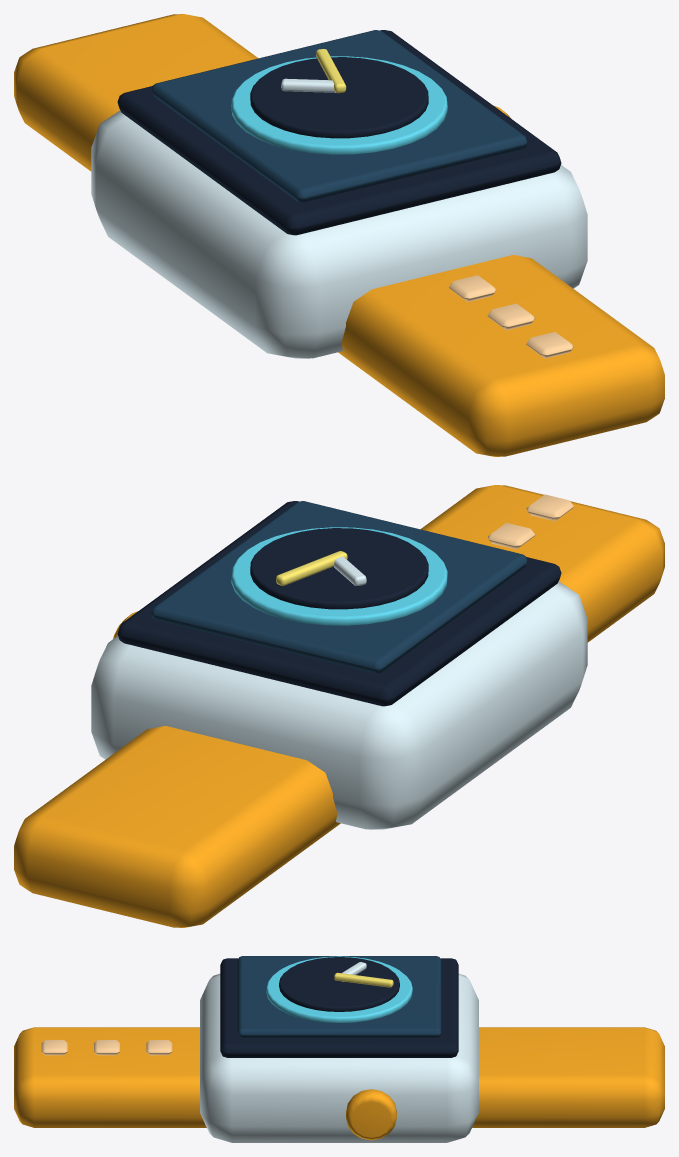
Rendered from smartwatch.fbx.
3 views of the same model, one above another, from view 1: azimuth 30°, elevation 25°; view 2: azimuth 150°, elevation 25°; view 3: azimuth 270°, elevation 25° (orthographic). The views are drawn at different scales.
Parts seen in each view (by area): view 1: smartwatch; view 2: smartwatch; view 3: smartwatch.
Boxes of the visible parts, x1,y1,x2,y2 form: smartwatch: (14, 14, 664, 456); smartwatch: (14, 485, 664, 927); smartwatch: (14, 956, 664, 1142).
Bounding box in the file's own units: 42.59 × 22.05 × 100.
Materials: 1 (1 with a texture image).
